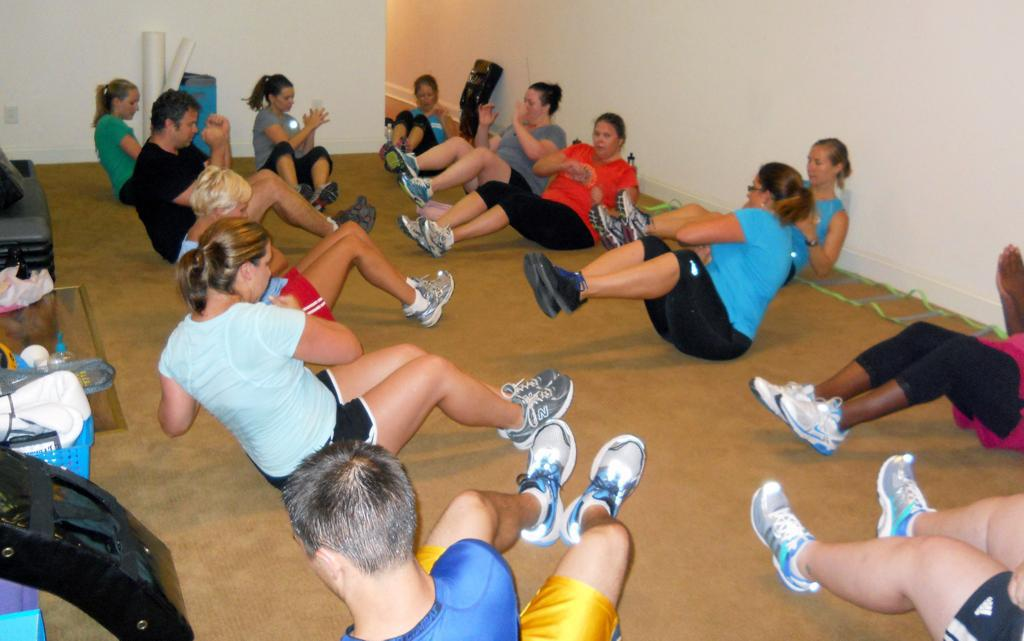face: (241, 238, 272, 303), (173, 107, 200, 148), (807, 146, 833, 186), (217, 196, 248, 229), (593, 122, 618, 157), (113, 88, 140, 120), (746, 173, 769, 208), (524, 90, 543, 119), (276, 87, 295, 111), (416, 85, 435, 109)
